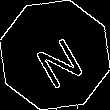N_NW: (25, 23, 85, 87)
